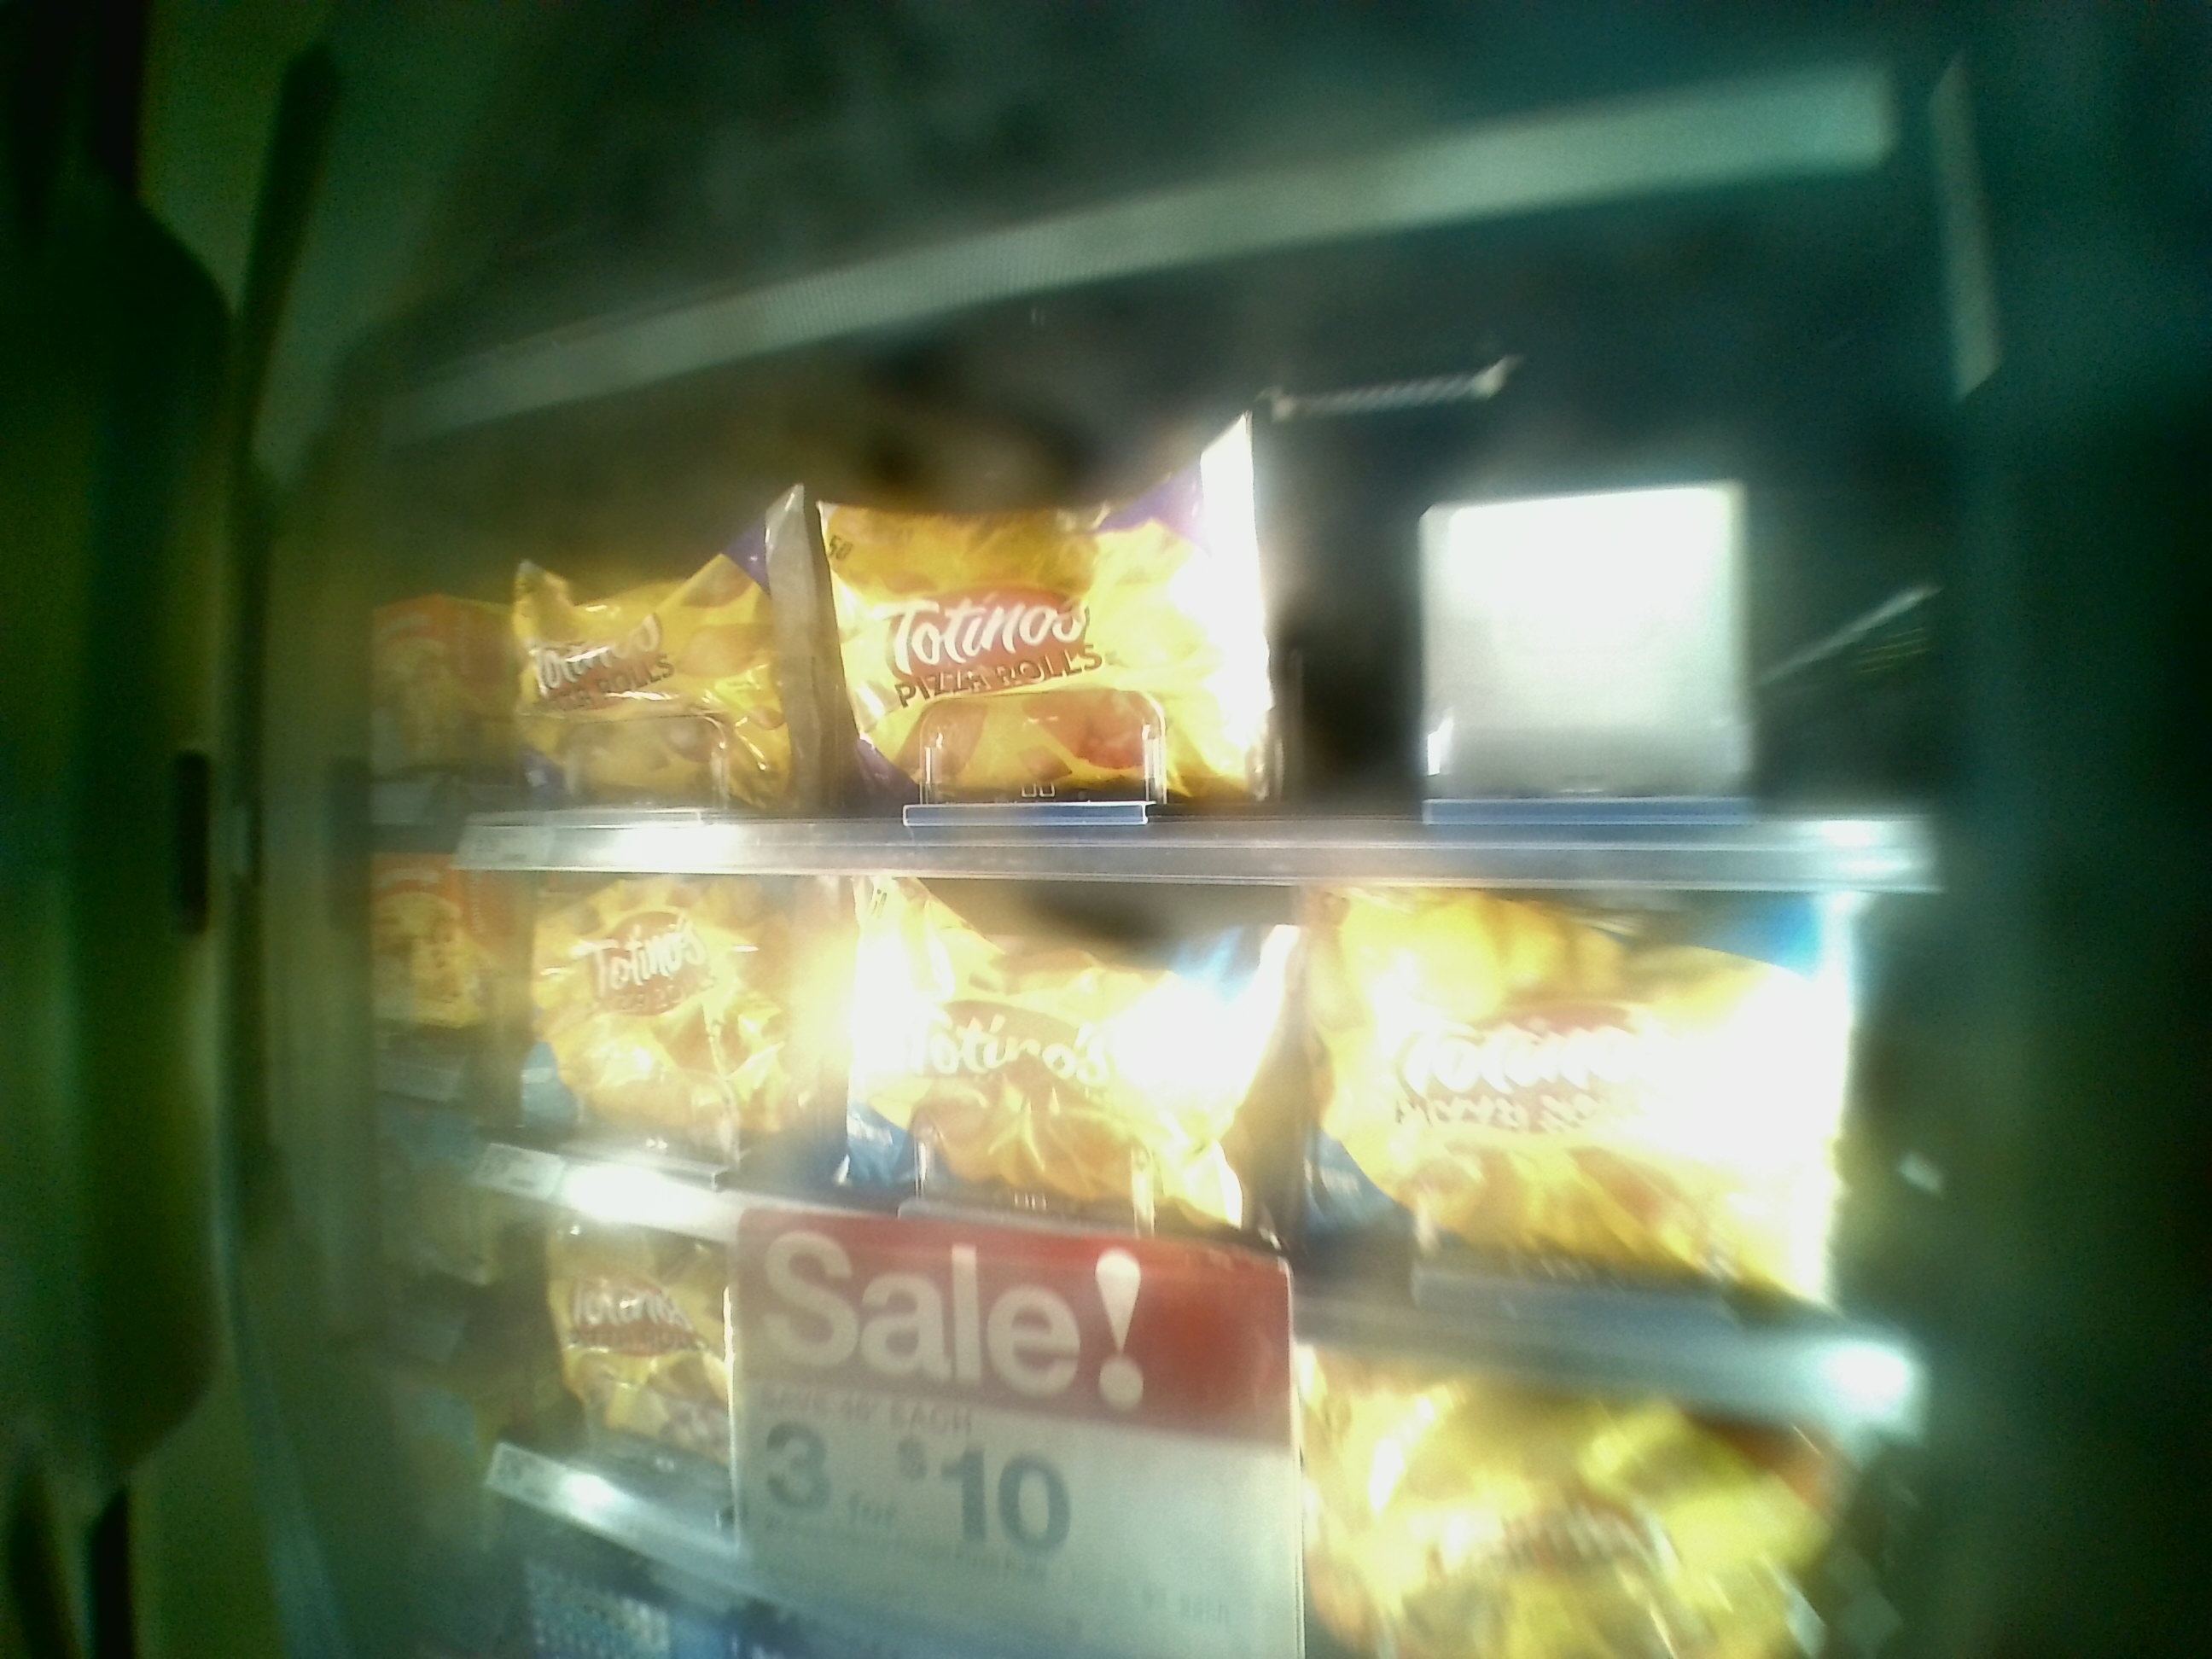shelf: (308, 802, 1939, 1417)
